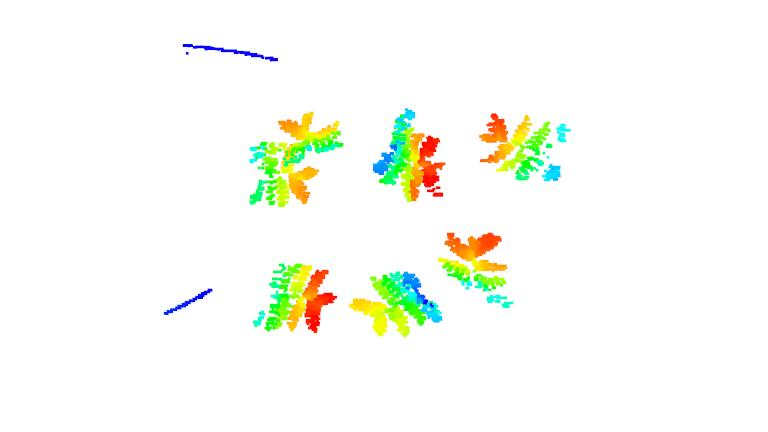chickpea: (476, 109, 573, 184), (371, 108, 446, 201), (348, 268, 444, 338), (257, 260, 337, 335), (443, 229, 515, 310), (246, 138, 316, 209), (269, 106, 345, 159)
